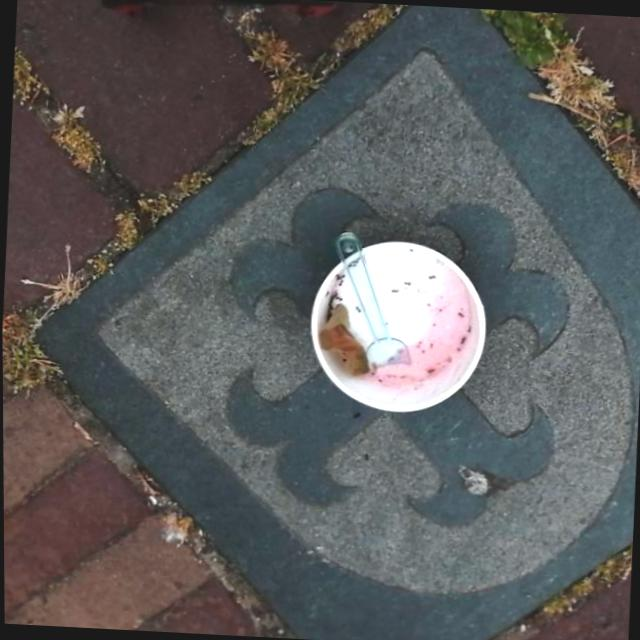Paper: (302, 234, 492, 418)
